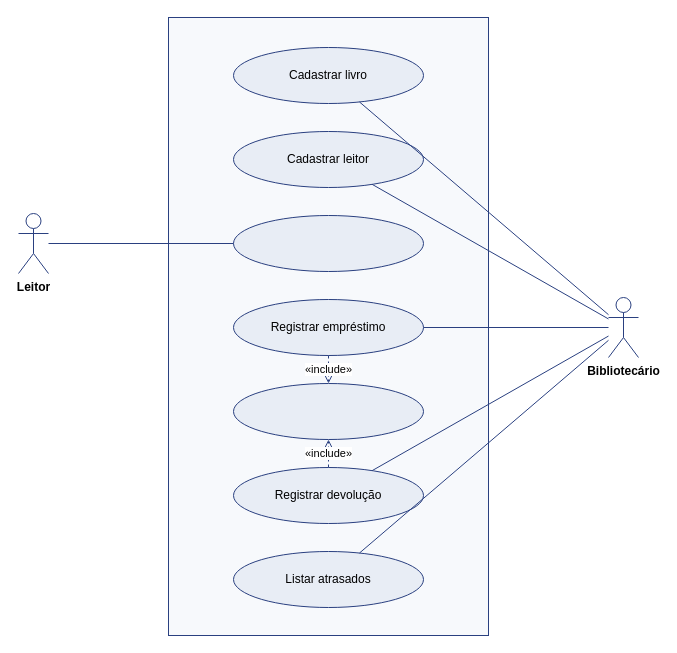
Image size: 677x653. Some labels were removed from this diagram. The shapes that lost their labels are listed below. From the top down, each one's box as (x1, y1, x2, y2) in pixels, then its label:
(232, 214, 424, 272): Consultar disponibilidade
(168, 16, 488, 636): BiblioTech
(232, 382, 424, 440): Identificar leitor
